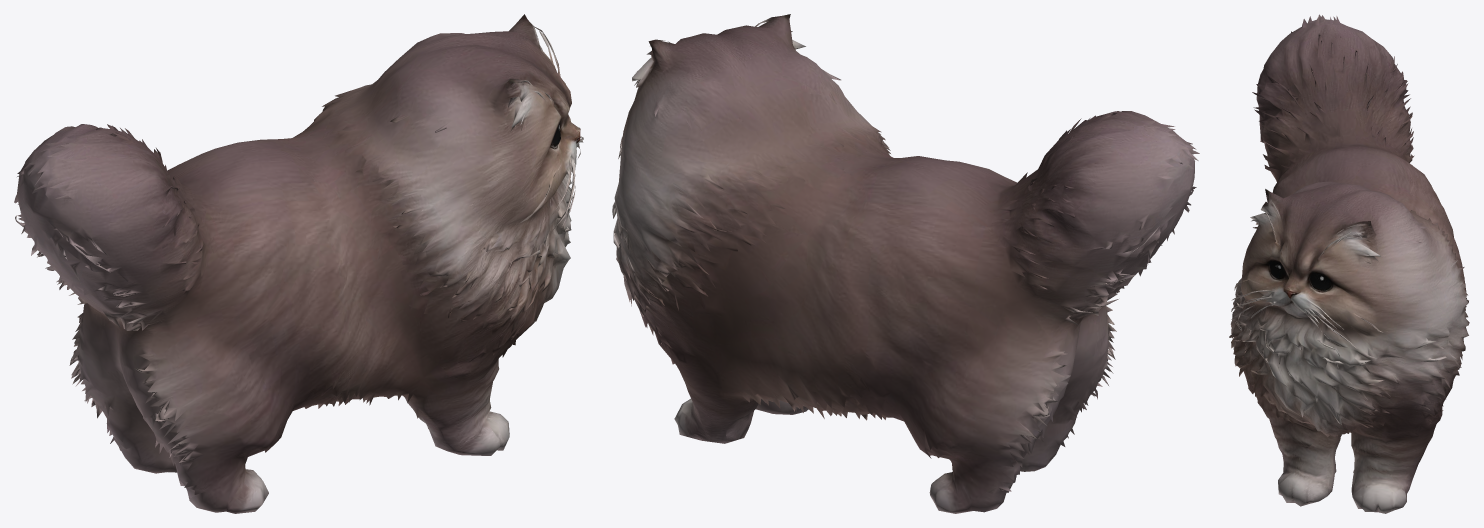
File: PARLORPUFF.glb
The picture shows the model from 3 angles, left to right: view 1: azimuth 30°, elevation 25°; view 2: azimuth 150°, elevation 25°; view 3: azimuth 270°, elevation 25°; orthographic projection. The views are drawn at different scales.
Parts seen in each view (by area): view 1: tripo_node_56623733-8cad-4e8b-b919-3130d9aeaed9; view 2: tripo_node_56623733-8cad-4e8b-b919-3130d9aeaed9; view 3: tripo_node_56623733-8cad-4e8b-b919-3130d9aeaed9.
Boxes of the visible parts, x1,y1,x2,y2 form: tripo_node_56623733-8cad-4e8b-b919-3130d9aeaed9: [14, 14, 583, 513]; tripo_node_56623733-8cad-4e8b-b919-3130d9aeaed9: [612, 14, 1199, 513]; tripo_node_56623733-8cad-4e8b-b919-3130d9aeaed9: [1229, 14, 1469, 513].
Size of the model in its own units: 1.51 by 1 by 0.6767.
Materials: 1 (1 with a texture image).
